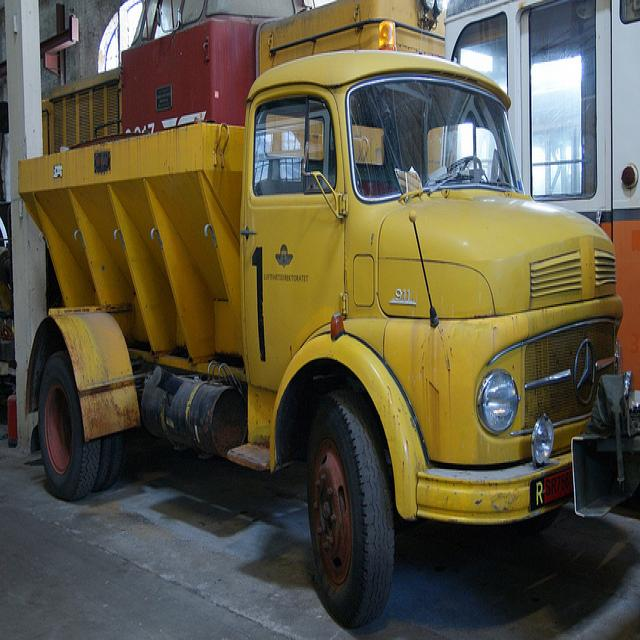Vehicle: (18, 1, 629, 632)
